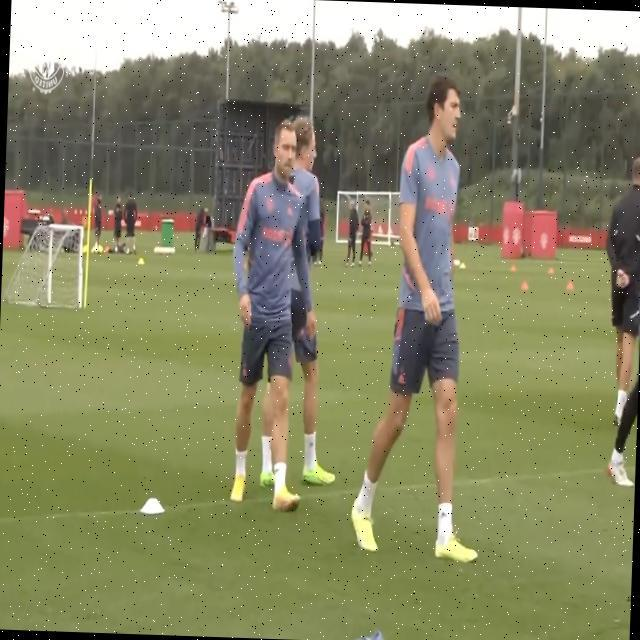Adidas: (396, 371, 406, 386), (440, 506, 448, 519)
